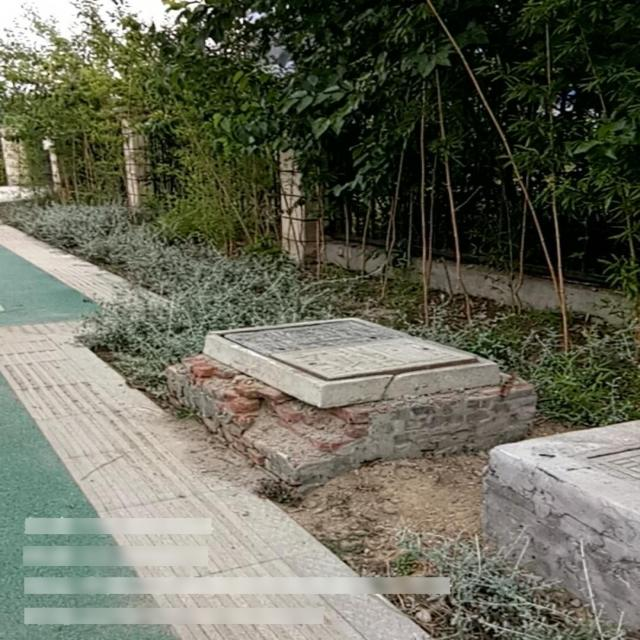Good: (208, 316, 496, 385)
